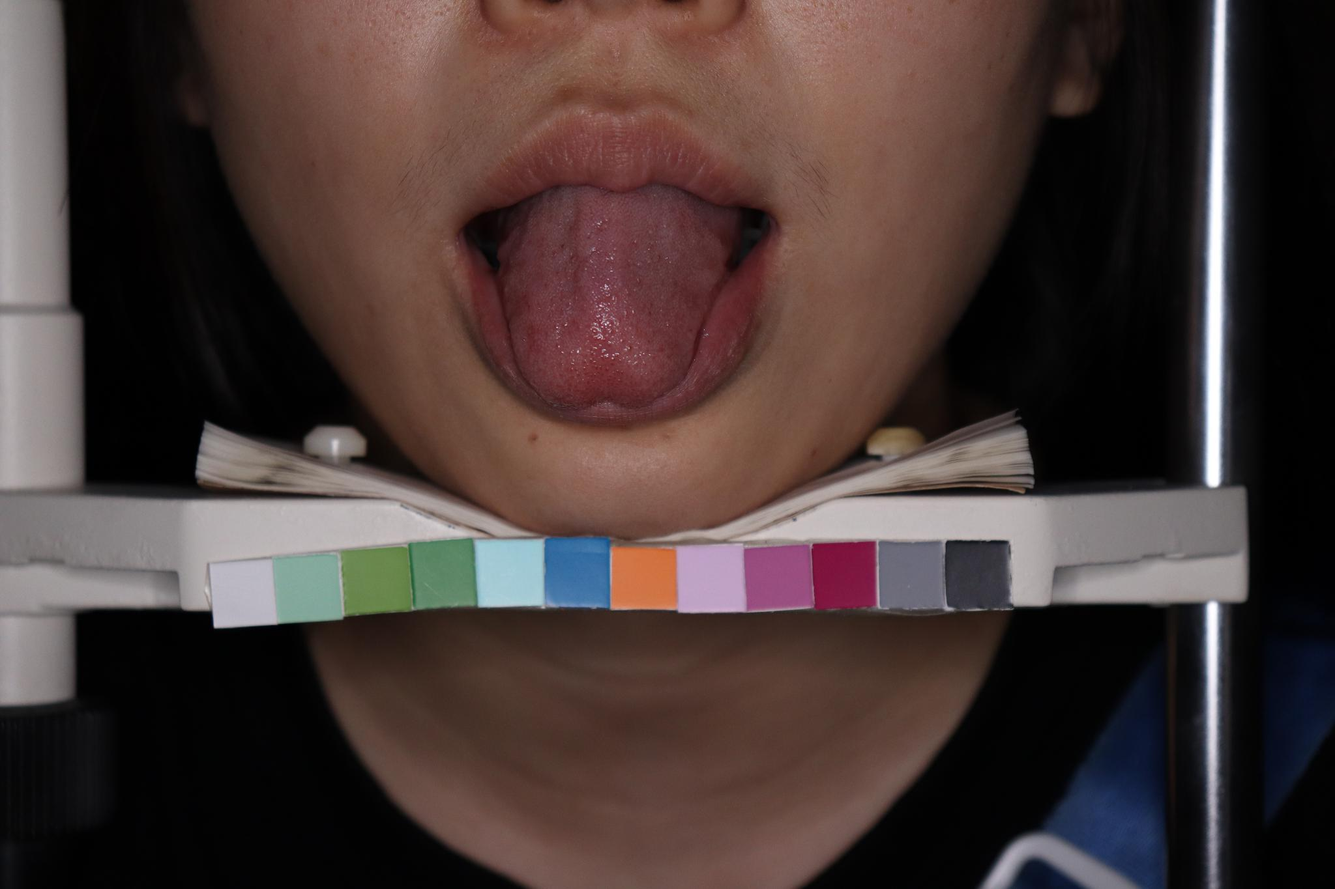baitaishe: (492, 181, 739, 412)
gandanao: (499, 204, 559, 352), (678, 203, 721, 348)
hongdianshe: (576, 310, 647, 362)
xinfeiao: (566, 374, 647, 412)
